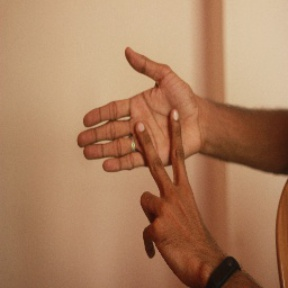N: (75, 44, 225, 233)
